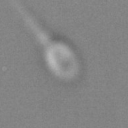normal: (1, 1, 51, 45)
